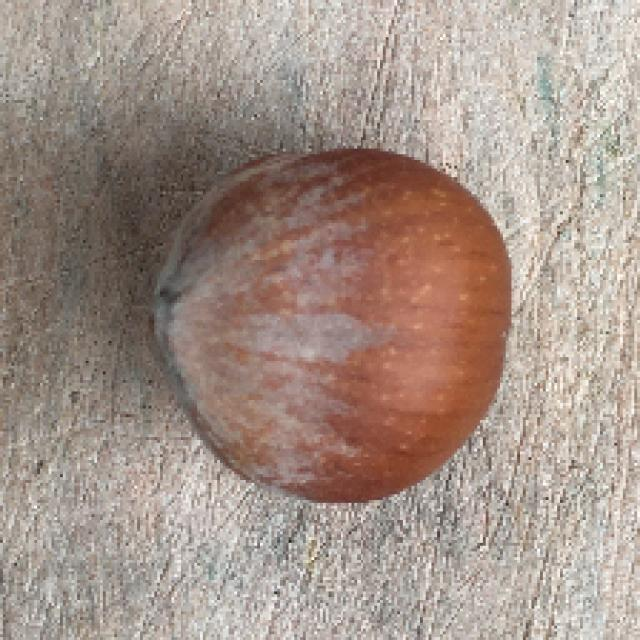QualityHazelnut: (150, 151, 520, 508)
